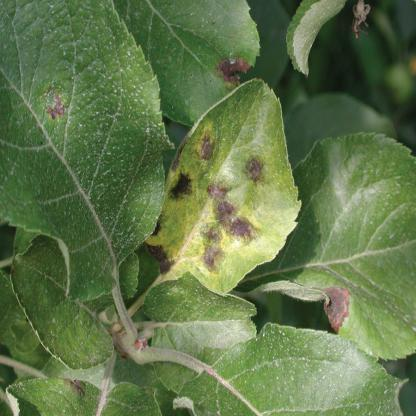Apple Scab Leaf: (0, 2, 180, 318), (148, 70, 302, 302)
